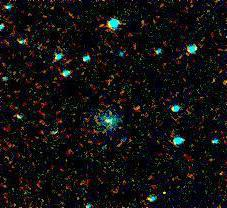star: (126, 91, 156, 121)
